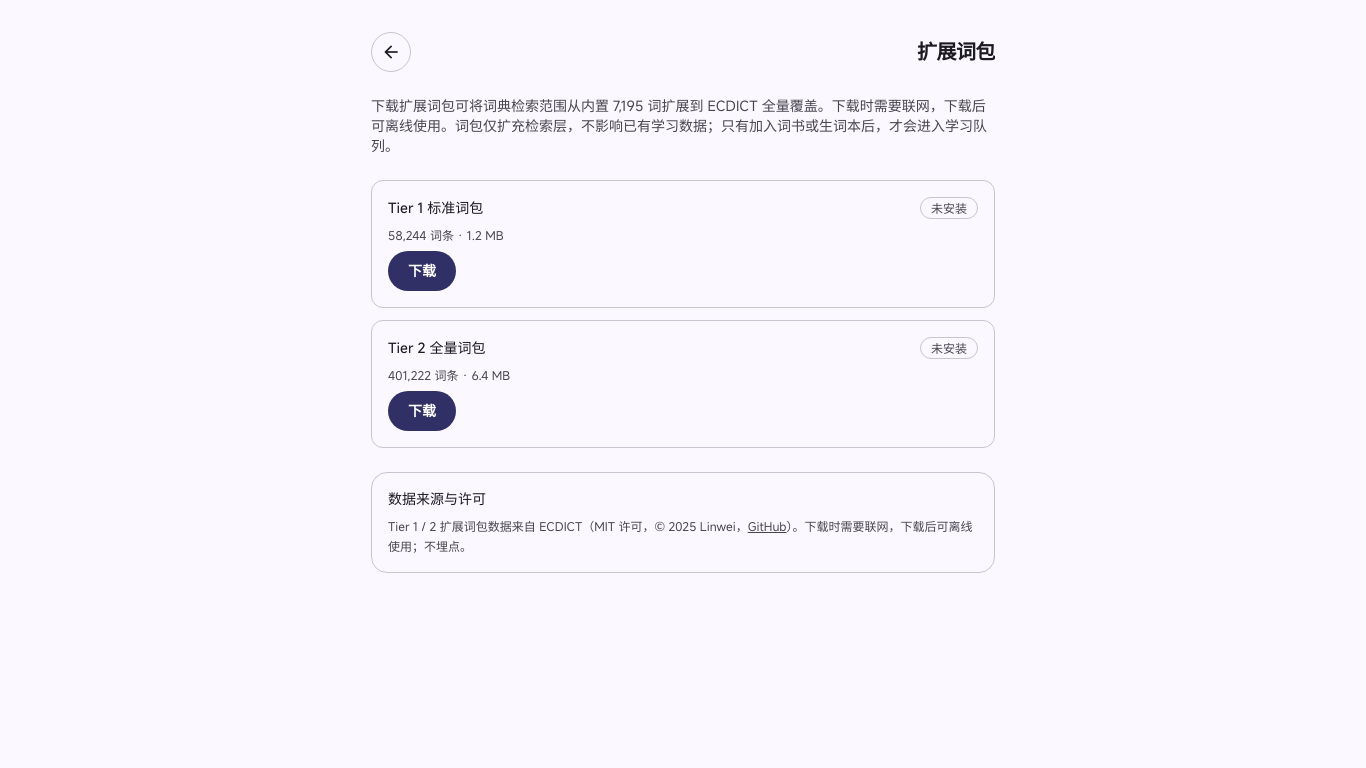
Test: DictionaryPackagesScreen › 下载阶段也展示取消按钮（pendingInstalls 但 status 仍 not-installed）
The image size is (1366, 768).
点击 Tier 1 下载 → 确认
Click the button "下载" below "58,244": (422, 271) [388,251,456,291]
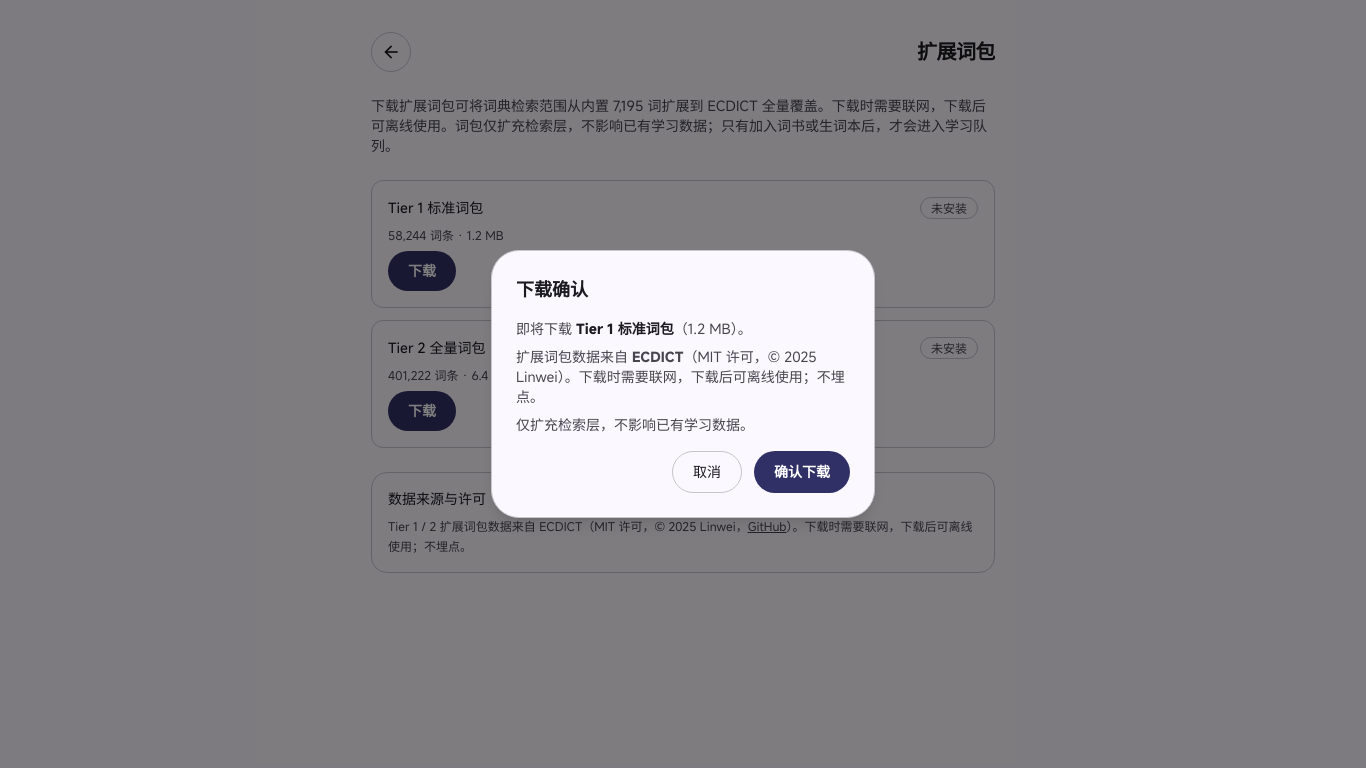
Expected: the button "确认下载" is shown
Click the button "确认下载": (802, 472) [754,451,850,493]
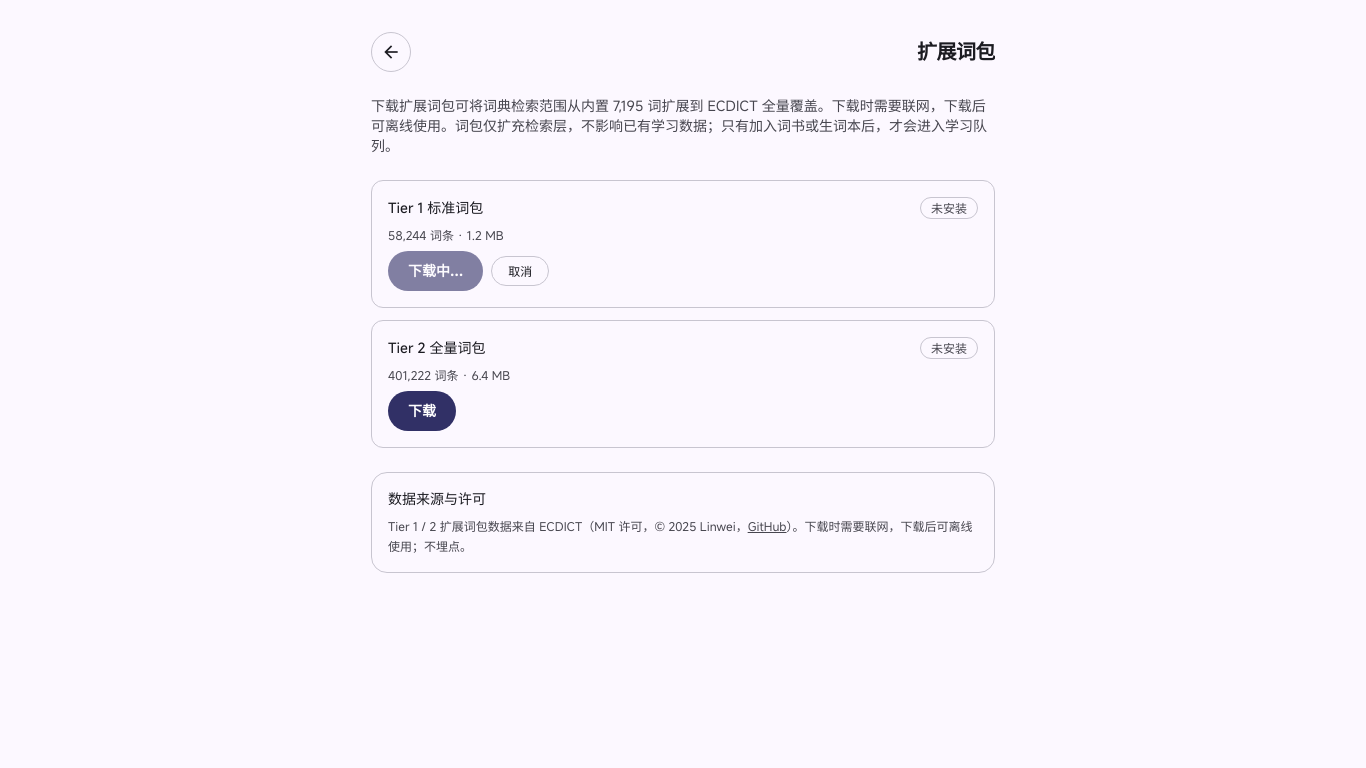
Expected: the button "取消" is shown, [491,256,549,286]
Expected: the button "下载中…" is shown, [388,251,483,291]
